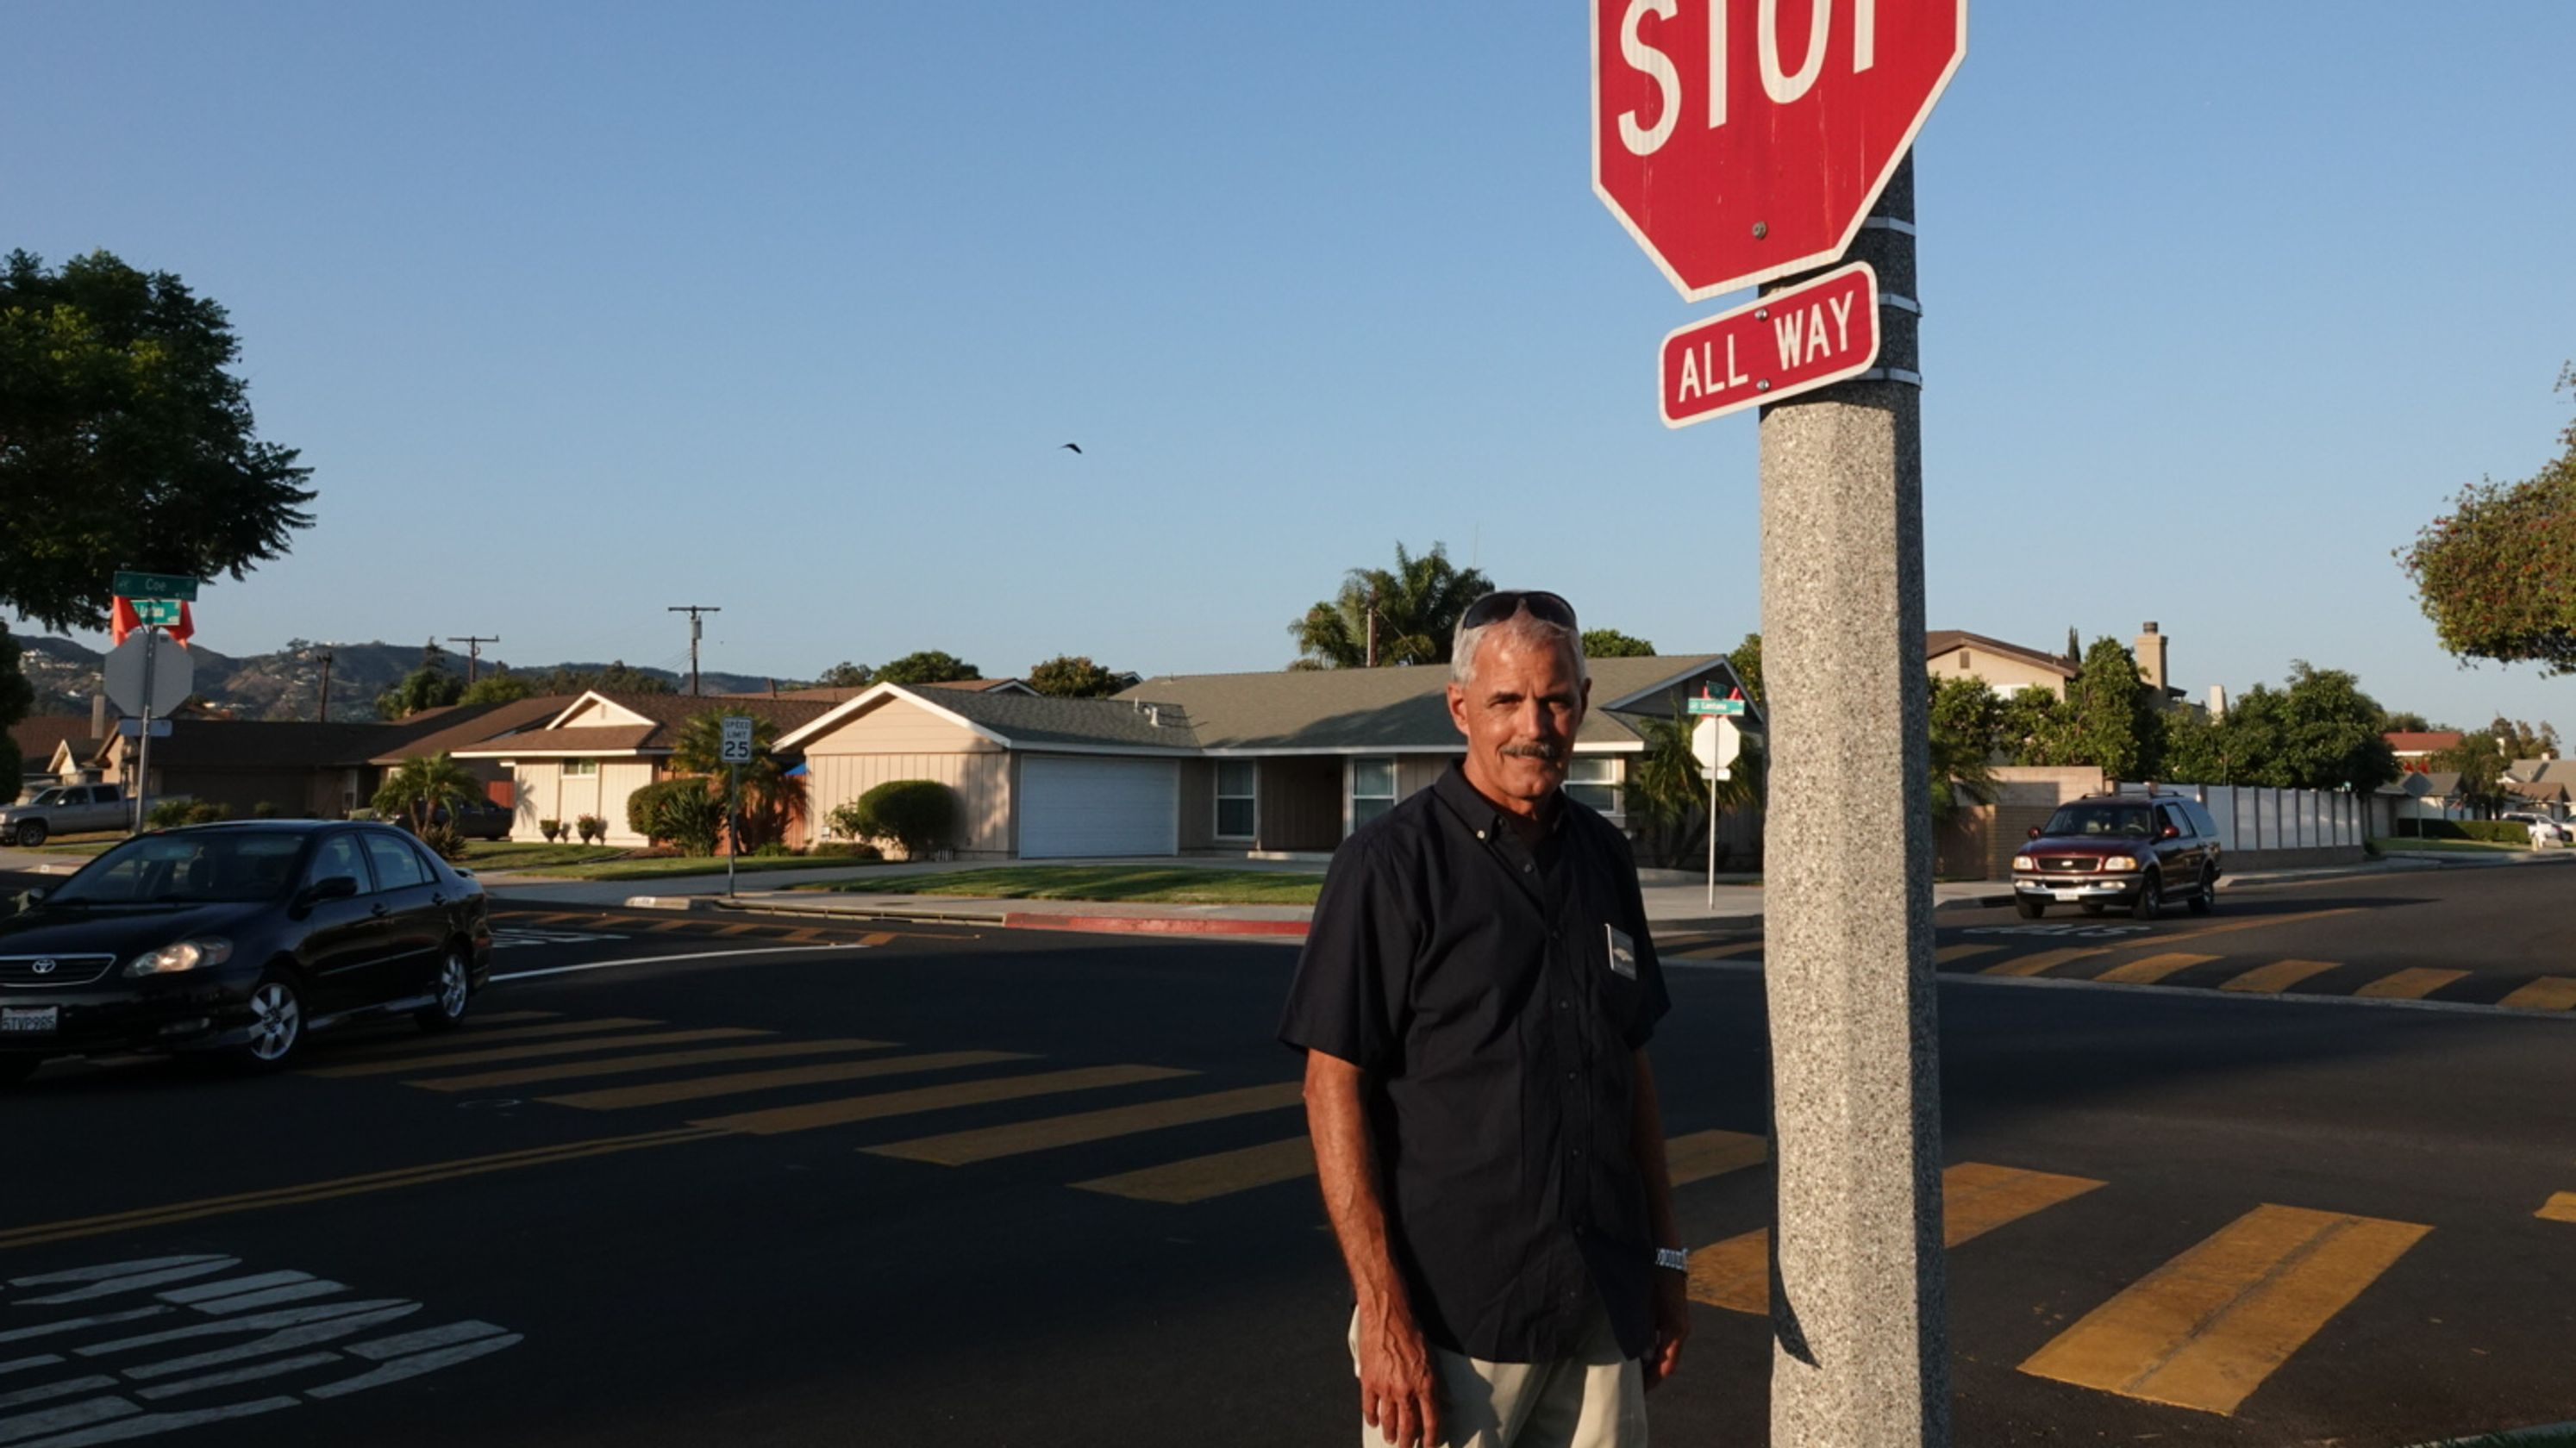stopsign: (1591, 0, 1974, 304)
